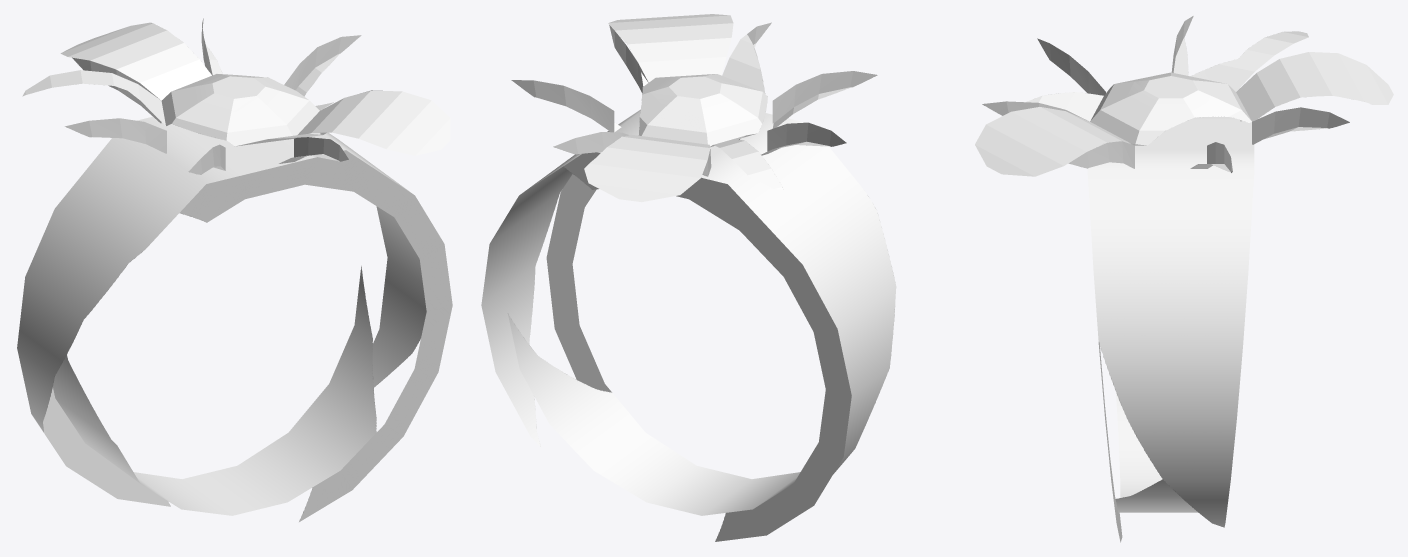
Rendered from ring.fbx.
The picture shows the model from 3 angles, left to right: view 1: azimuth 30°, elevation 25°; view 2: azimuth 150°, elevation 25°; view 3: azimuth 270°, elevation 25°; orthographic projection.
Parts seen in each view (by area): view 1: ring; view 2: ring; view 3: ring.
Boxes of the visible parts, x1=… form: ring: x1=17, y1=18, x2=452, y2=521; ring: x1=481, y1=14, x2=896, y2=541; ring: x1=975, y1=16, x2=1393, y2=542.
Bounding box in the file's own units: 0.246 × 0.2644 × 0.2459.
